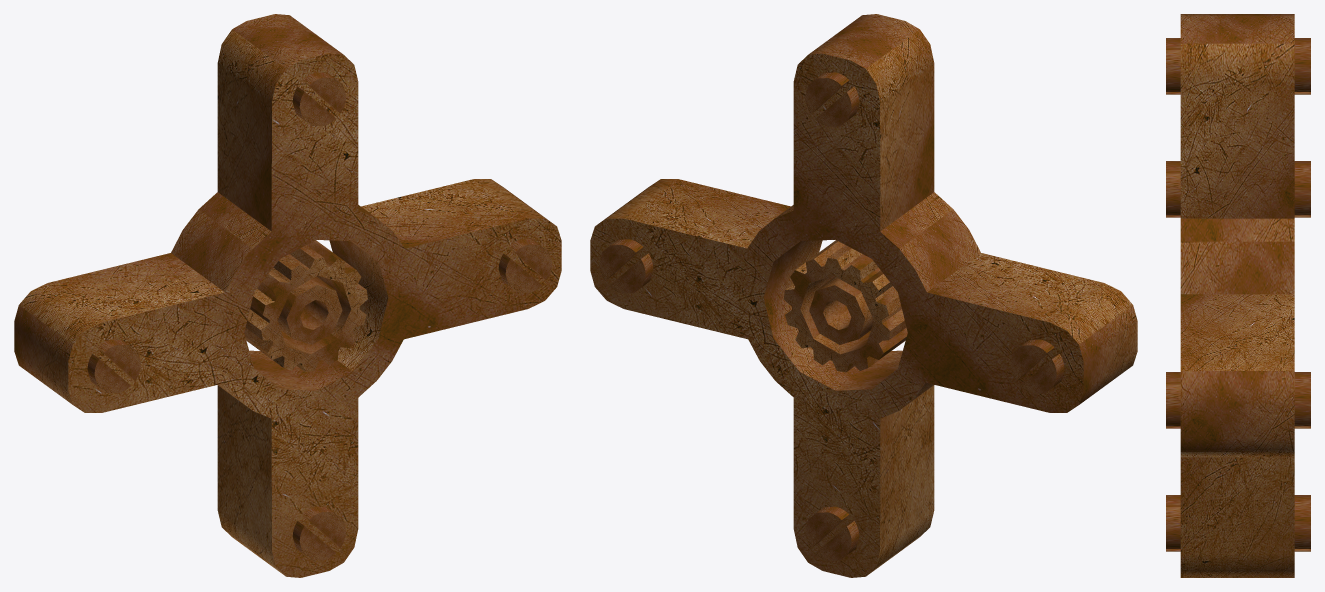
File: Plus.FBX
3 renders of one model, left to right at view 1: azimuth 30°, elevation 25°; view 2: azimuth 150°, elevation 25°; view 3: azimuth 270°, elevation 25°, orthographic. The views are drawn at different scales.
Parts seen in each view (by area): view 1: Plus004, Cogwheel_234, Screw_504, Screw_505, Screw_513, Screw_502; view 2: Plus004, Cogwheel_234, Screw_502, Screw_504, Screw_513, Screw_505; view 3: Plus004, Screw_513, Screw_502, Screw_504, Screw_505.
Boxes of the visible parts, x1,y1,x2,y2 form: Plus004: [14, 14, 561, 577]; Cogwheel_234: [244, 240, 367, 372]; Screw_504: [87, 339, 140, 393]; Screw_505: [292, 506, 346, 560]; Screw_513: [292, 72, 346, 126]; Screw_502: [498, 239, 552, 293]; Plus004: [590, 14, 1137, 577]; Cogwheel_234: [783, 240, 907, 372]; Screw_502: [599, 239, 653, 293]; Screw_504: [1010, 339, 1064, 393]; Screw_513: [805, 72, 859, 126]; Screw_505: [805, 506, 859, 560]; Plus004: [1180, 14, 1294, 577]; Screw_513: [1166, 38, 1310, 94]; Screw_502: [1166, 372, 1310, 428]; Screw_504: [1166, 161, 1310, 217]; Screw_505: [1166, 495, 1310, 551].
Bounding box in the file's own units: 53.3 × 53.42 × 12.89.
Materials: 1 (1 with a texture image).
